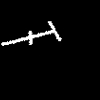double_crochet: (2, 21, 60, 45)
